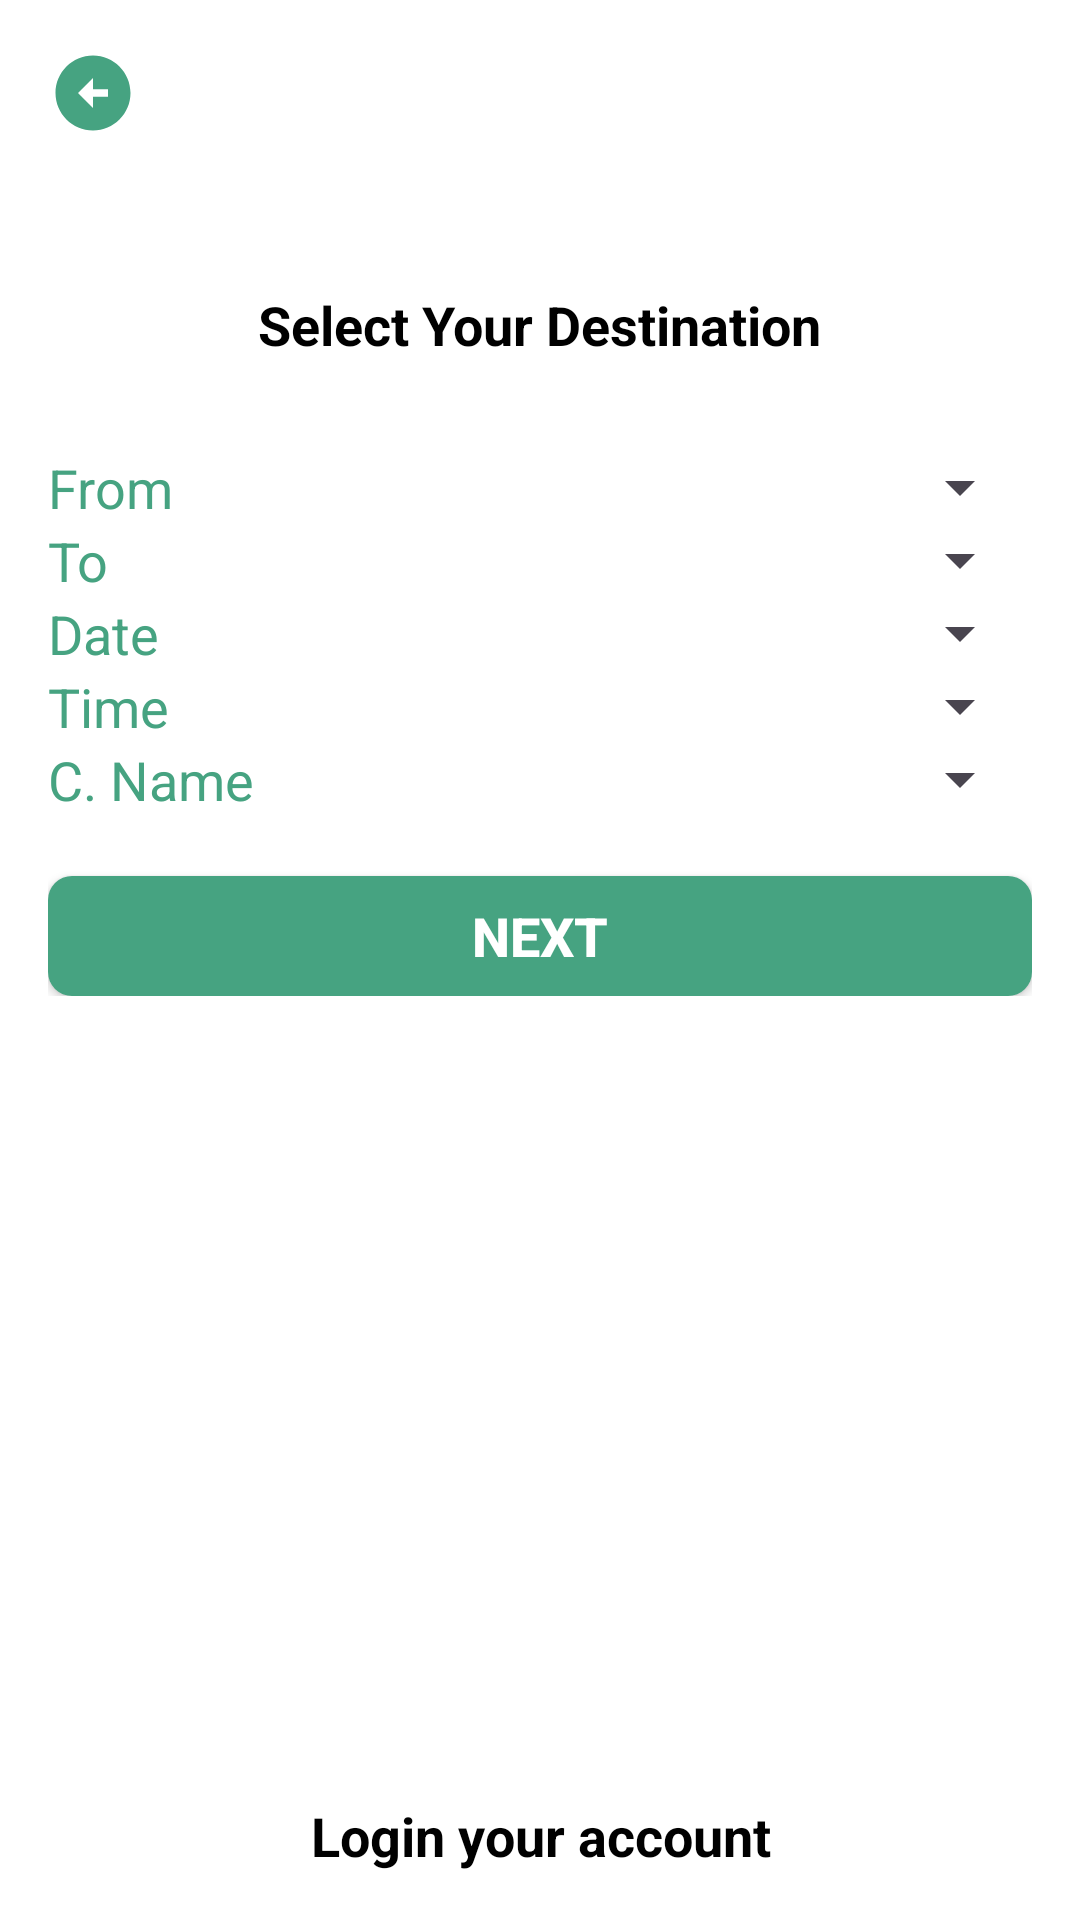

Where to tap for icons on this 1080×1920 app screen, as [x,y]:
back: [93,93]
